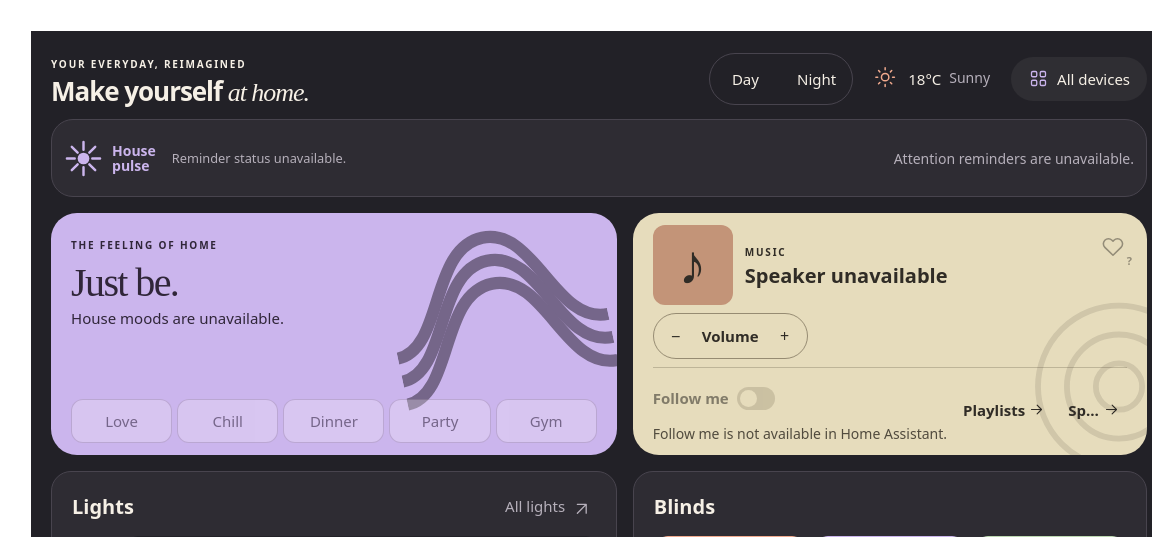
recovers forecast failure through retry without replacing the dialog
Click the button "18°C Sunny" at {"x": 932, "y": 79}, box [861,57,1003,101]
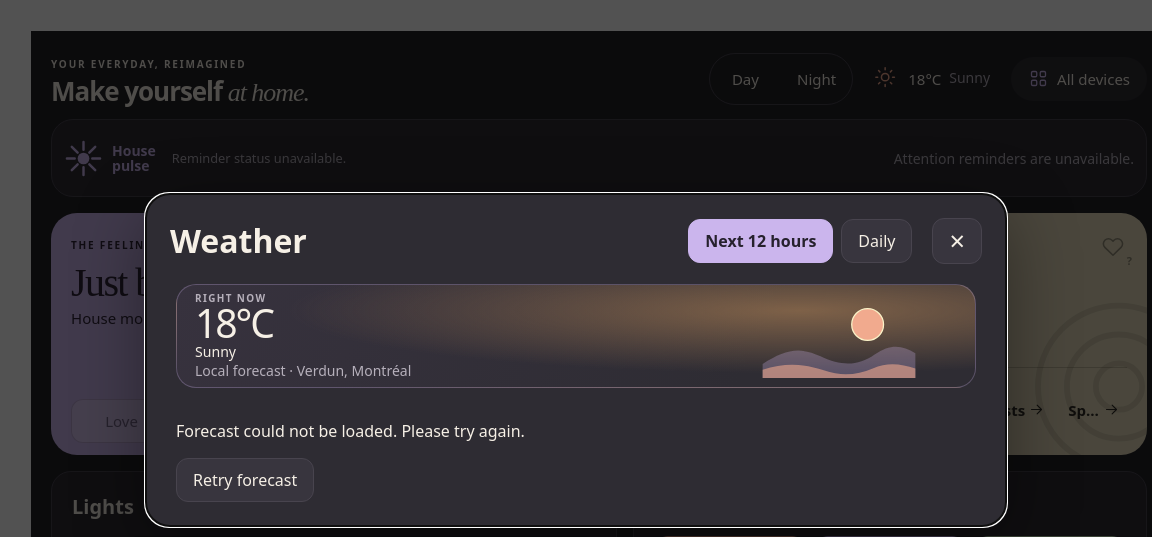
Check: the message "Forecast could not be loaded. Please try again. Retry forecast" is shown, box [176,420,525,502]
Click the button "Retry forecast" at {"x": 245, "y": 480}, box [176,458,314,502]
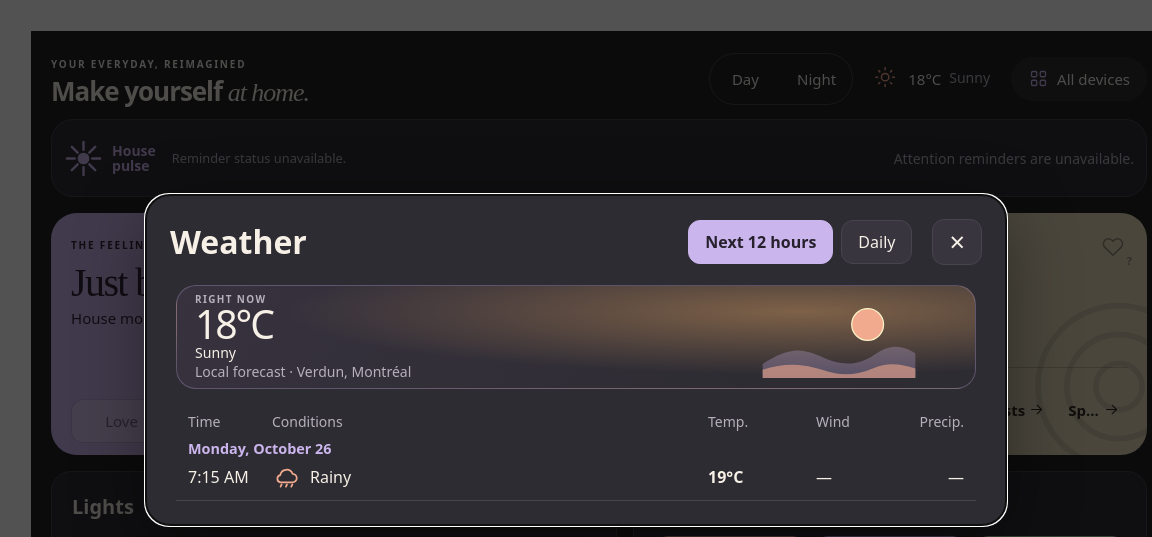
Check: the text "19°C" is shown, box [708,466,743,488]
